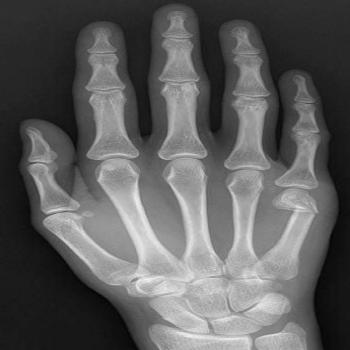Fracture: (268, 199, 322, 222)
